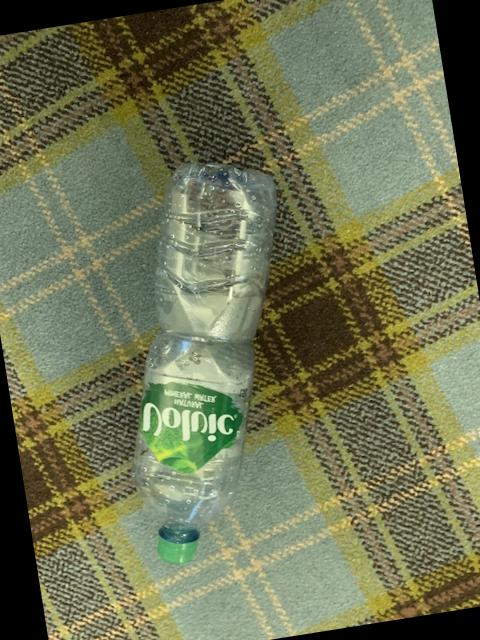plastic: (132, 163, 273, 563)
